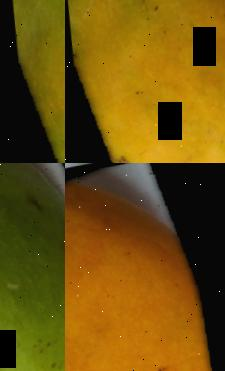PartiallyRipe: (65, 0, 225, 163), (0, 0, 65, 163)
Ripe: (65, 163, 225, 371)
Unripe: (0, 163, 65, 371)
